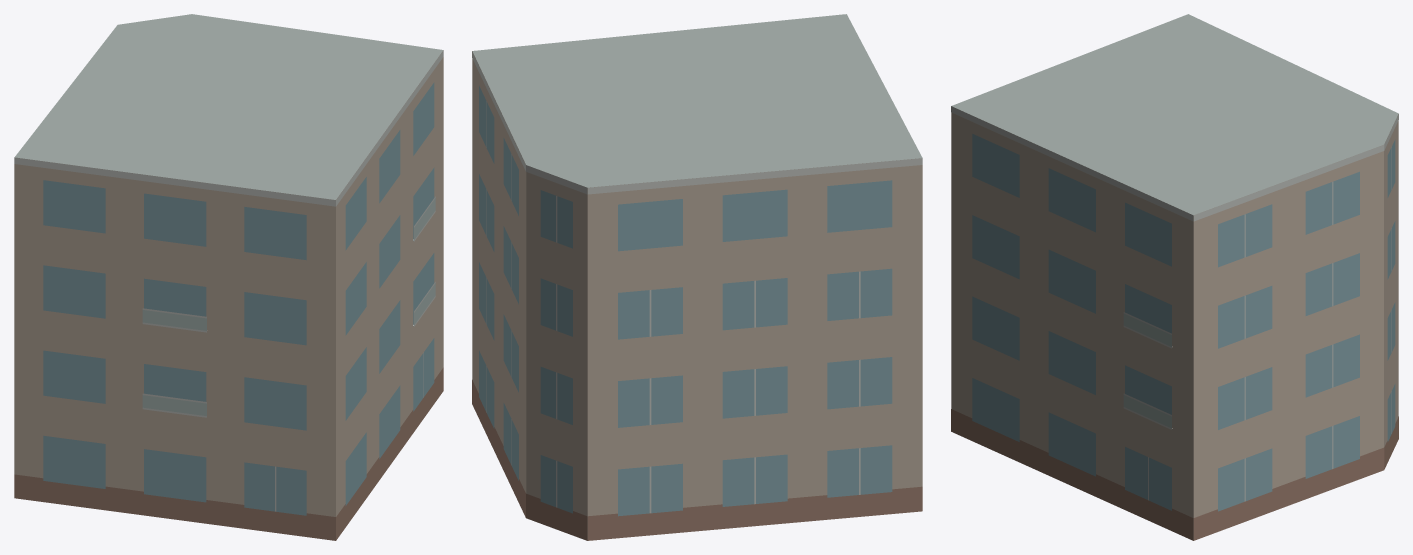
The model's file is survey-upis-32840177.glb.
The picture shows the model from 3 angles, left to right: view 1: azimuth 30°, elevation 25°; view 2: azimuth 150°, elevation 25°; view 3: azimuth 270°, elevation 25°; orthographic projection. The views are drawn at different scales.
Parts seen in each view (by area): view 1: survey-upis-32840177.tmp; view 2: survey-upis-32840177.tmp; view 3: survey-upis-32840177.tmp.
Boxes of the visible parts, x1=… form: survey-upis-32840177.tmp: x1=14, y1=14, x2=443, y2=540; survey-upis-32840177.tmp: x1=472, y1=14, x2=922, y2=540; survey-upis-32840177.tmp: x1=951, y1=14, x2=1398, y2=540.
Size of the model in its own units: 16.72 by 12.6 by 15.71.
